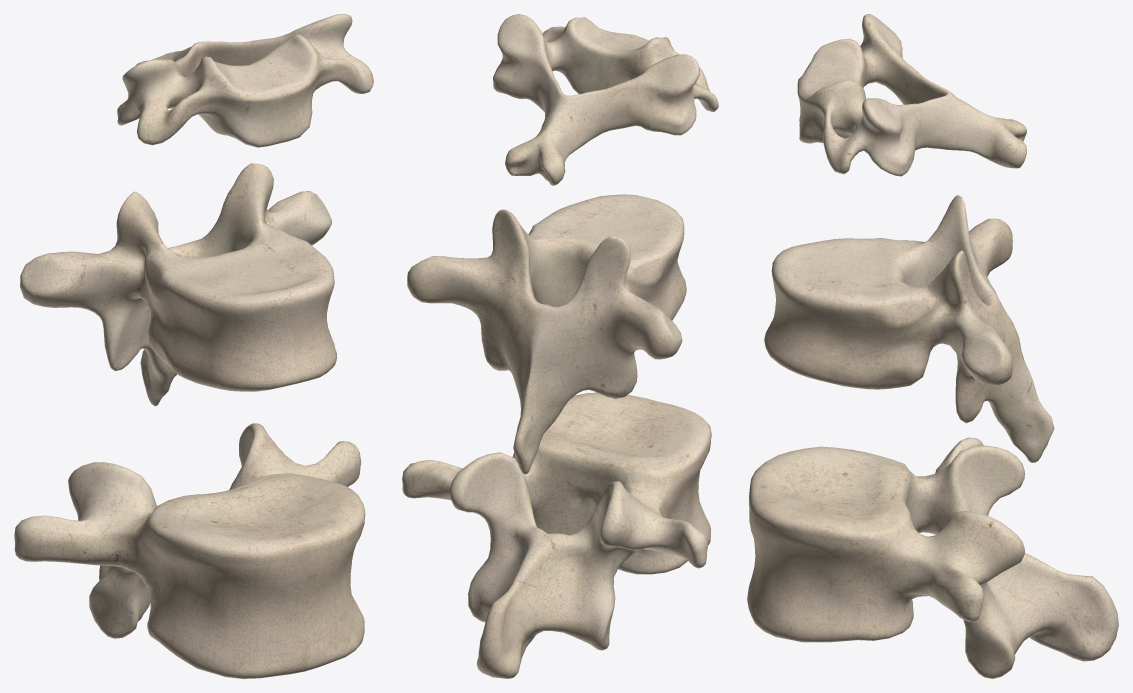
The model's file is vertebrae.glb.
3 views of the same model, side by side, from view 1: azimuth 30°, elevation 25°; view 2: azimuth 150°, elevation 25°; view 3: azimuth 270°, elevation 25° (orthographic). The views are drawn at different scales.
Parts seen in each view (by area): view 1: Lumbar vertebra (L3), Thoracic vertebra (T7), Cervical vertebra (C4); view 2: Lumbar vertebra (L3), Thoracic vertebra (T7), Cervical vertebra (C4); view 3: Lumbar vertebra (L3), Thoracic vertebra (T7), Cervical vertebra (C4).
Part boxes in pixels (x1,y1,x2,y2): Lumbar vertebra (L3): (14, 423, 365, 678); Thoracic vertebra (T7): (20, 163, 336, 406); Cervical vertebra (C4): (117, 14, 373, 147); Lumbar vertebra (L3): (402, 392, 711, 678); Thoracic vertebra (T7): (407, 194, 686, 474); Cervical vertebra (C4): (493, 14, 718, 185); Lumbar vertebra (L3): (747, 437, 1118, 678); Thoracic vertebra (T7): (764, 195, 1054, 462); Cervical vertebra (C4): (797, 14, 1026, 176).
Bounding box in the file's own units: 0.0837 × 0.1495 × 0.0843.
3 materials, 3 textured.
